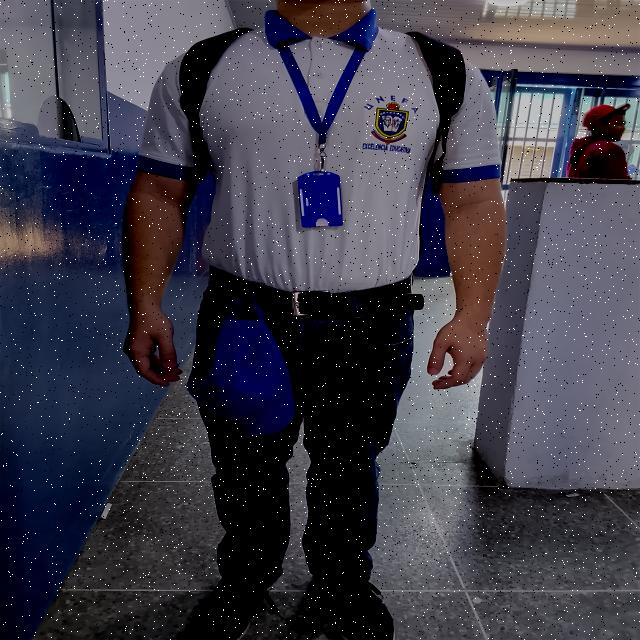carnet: (297, 176, 344, 228)
pantalon_oscuro: (186, 288, 415, 583)
uniforme_superior: (135, 8, 503, 294)
